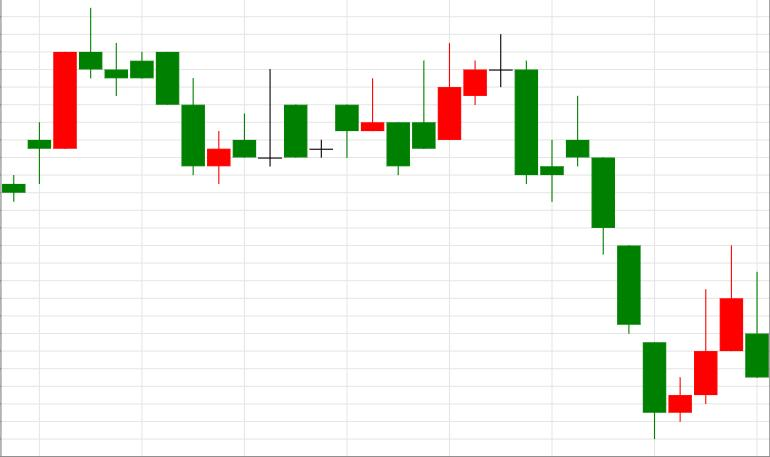evening_star_fall: (386, 34, 538, 183)
three_white_soldiers_rise: (566, 97, 743, 439)
